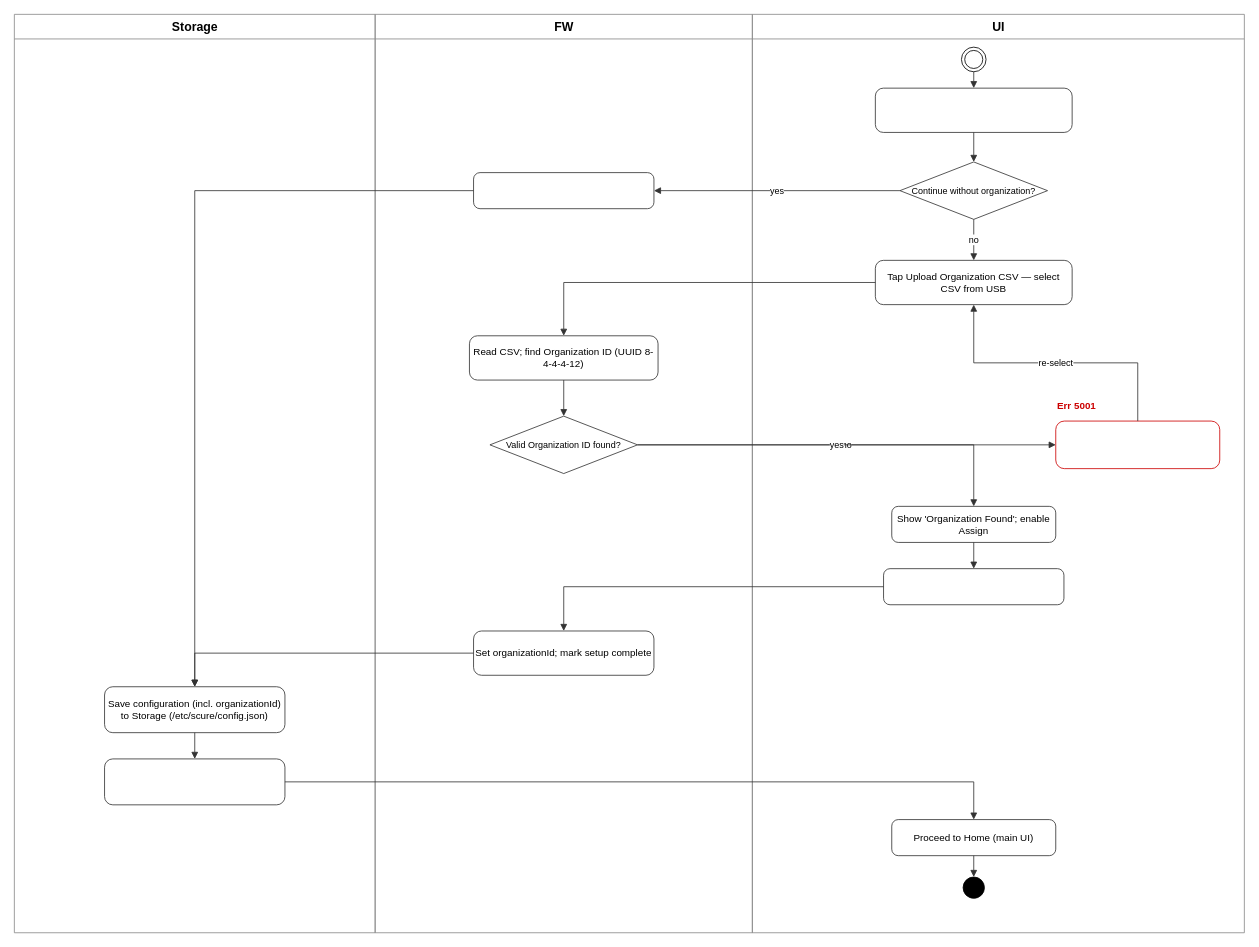
The diagram is 1259 pixels wide and 947 high, and some of its shapes have lost their labels. The shapes that lost their labels are listed below. From the top down, each one's centre as x and y in pixels, then its label:
At [973,109]: "Show Connect Organization screen (Upload CSV · Assign · Continue without)".
At [563,190]: "Mark setup complete (no organization)".
At [1137,444]: "Show 'No valid organization ID found in CSV file'; user re-selects".
At [973,586]: "Press Assign Organization to S-Cure".
At [194,781]: "Back up configuration to SD (/mnt/ssd2/scure/config_backup.json)".
